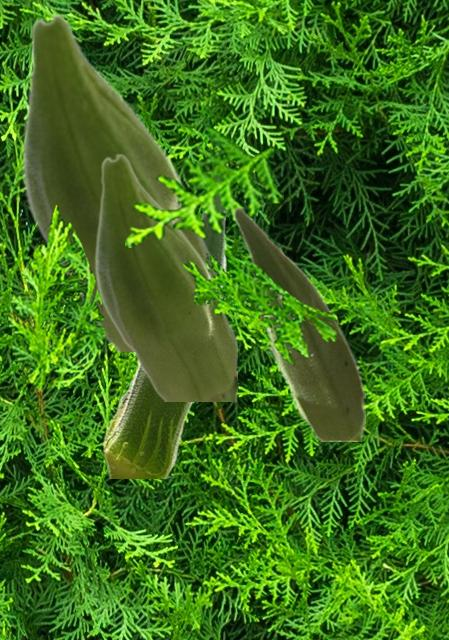okra: (21, 13, 213, 350), (102, 196, 227, 477), (94, 153, 236, 400), (232, 206, 364, 440)
